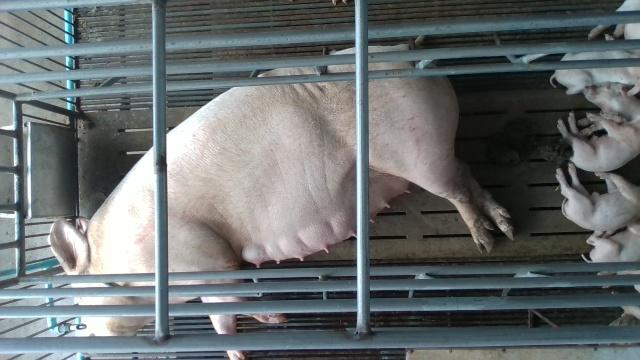piglet: (556, 162, 640, 232), (558, 110, 640, 173), (551, 51, 640, 97), (578, 84, 640, 135), (582, 222, 640, 261)
sow-sleep-lactate: (46, 41, 517, 360)
